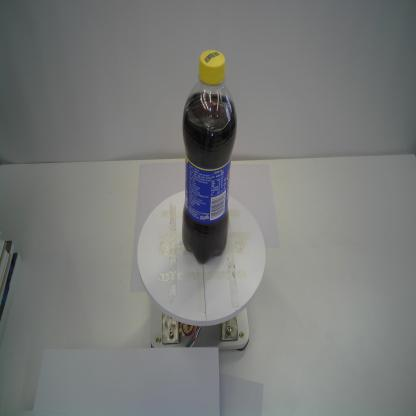Drink: (178, 47, 238, 266)
